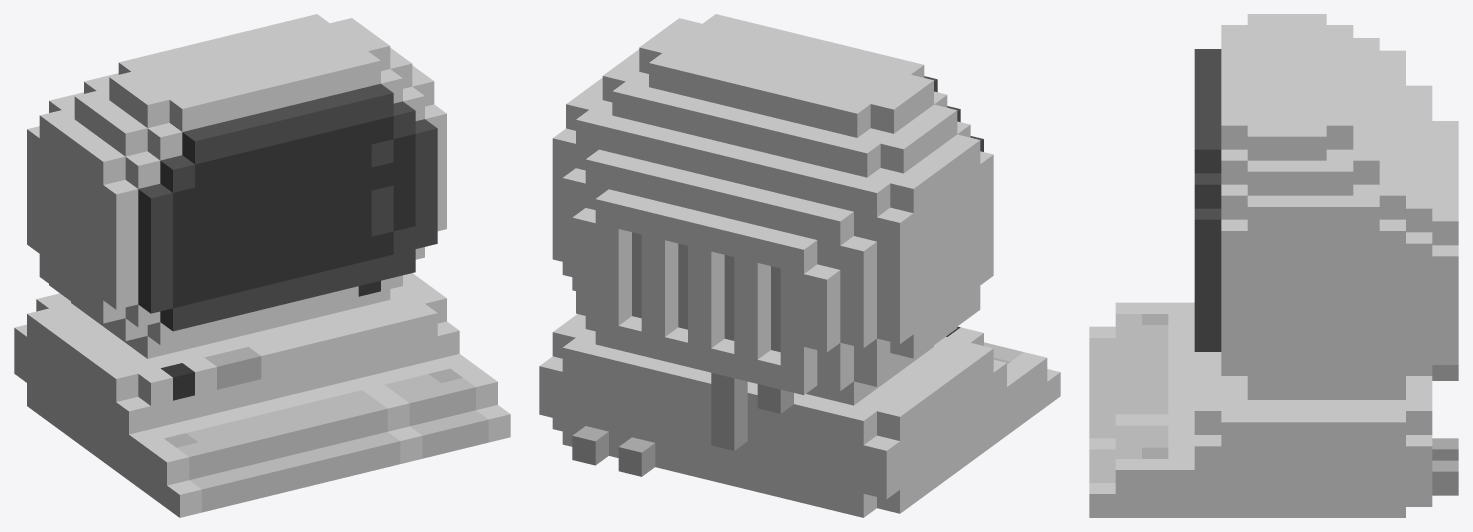
Rendered from voxel-computer.glb.
3 renders of one model, left to right at view 1: azimuth 30°, elevation 25°; view 2: azimuth 150°, elevation 25°; view 3: azimuth 270°, elevation 25°, orthographic. The views are drawn at different scales.
Parts seen in each view (by area): view 1: Object_2; view 2: Object_2; view 3: Object_2.
Boxes of the visible parts, left/top/right/bottom form: Object_2: left=14, top=14, right=510, bottom=517; Object_2: left=539, top=14, right=1060, bottom=517; Object_2: left=1089, top=14, right=1458, bottom=517.
Bounding box in the file's own units: 1.5 × 1.5 × 1.4.
Materials: 1 (1 with a texture image).
